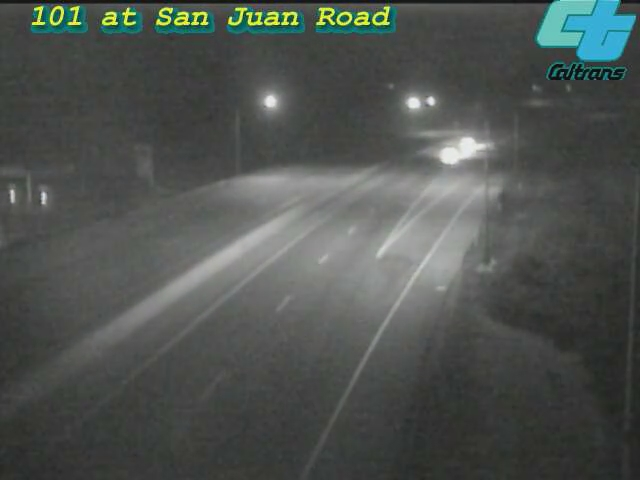vehicle: (438, 121, 488, 171), (422, 130, 472, 180)
